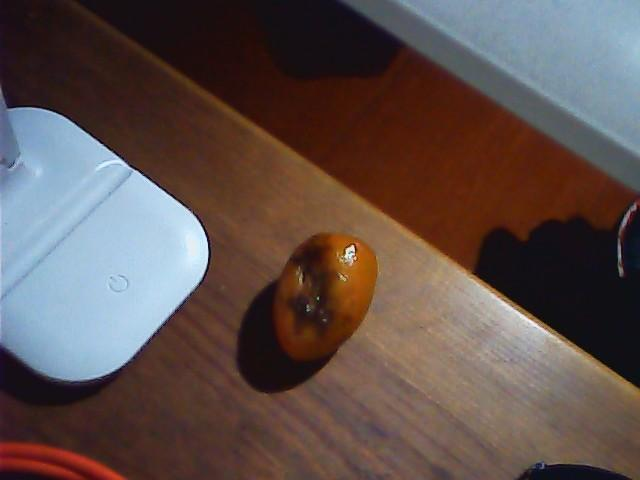defectuoso: (272, 231, 376, 363)
